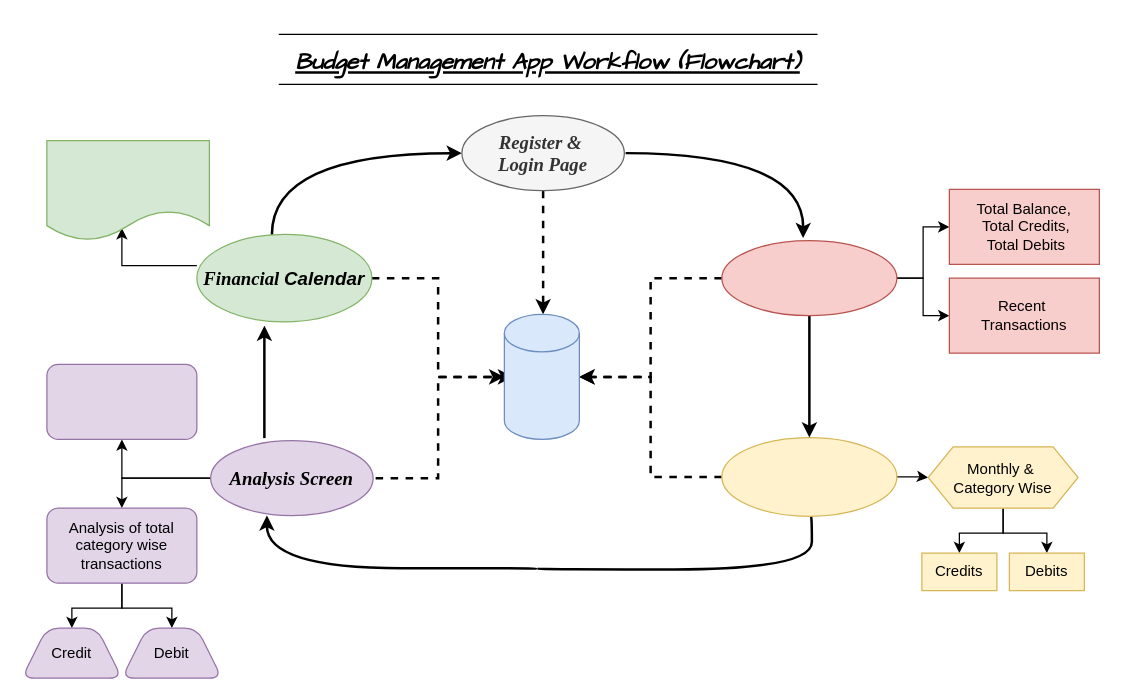
The diagram is 1121 pixels wide and 700 high, and some of its shapes have lost their labels. The centre of each missing label's shape, as x and y in pixels:
"Daily credit & debit wise comparision analysis (Bar Chart)" belongs at pixel 121 401.
"Firebase Console" belongs at pixel 541 376.
"Home Screen" belongs at pixel 809 277.
"Track daily total balance, credit & debit in calendar format" belongs at pixel 127 190.
"Transaction Screen" belongs at pixel 809 476.
